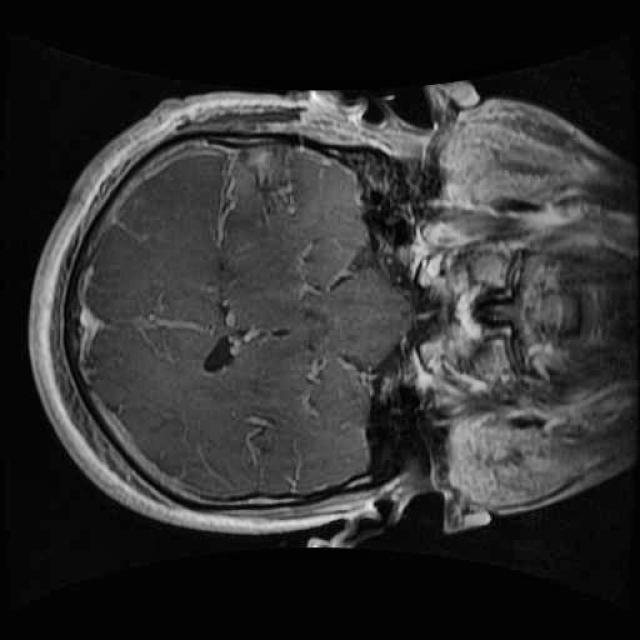Non-Tumor: (214, 134, 312, 238)
